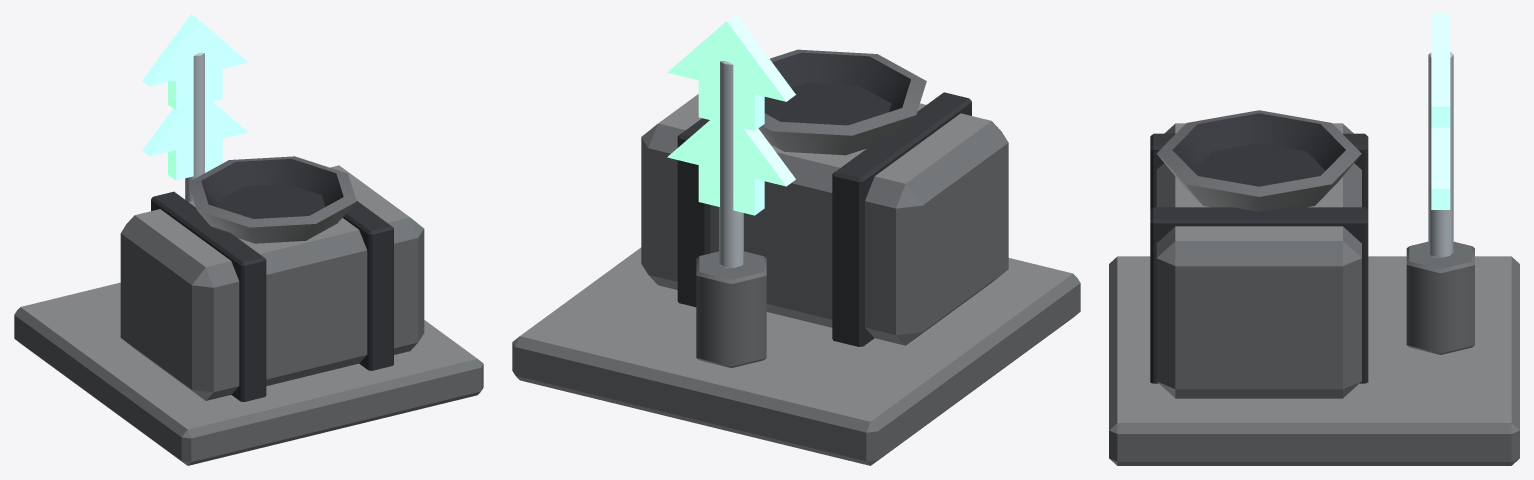
File: R4X_CargoUplink_LOD1.glb
The picture shows the model from 3 angles, left to right: view 1: azimuth 30°, elevation 25°; view 2: azimuth 150°, elevation 25°; view 3: azimuth 270°, elevation 25°; orthographic projection. The views are drawn at different scales.
Visible parts, largest first — view 1: R4X_CargoUplink_LOD1; view 2: R4X_CargoUplink_LOD1; view 3: R4X_CargoUplink_LOD1.
Part boxes in pixels (x1,y1,x2,y2): R4X_CargoUplink_LOD1: [14, 14, 483, 465]; R4X_CargoUplink_LOD1: [512, 14, 1080, 465]; R4X_CargoUplink_LOD1: [1109, 14, 1519, 465].
Size of the model in its own units: 0.52 by 0.515 by 0.52.
